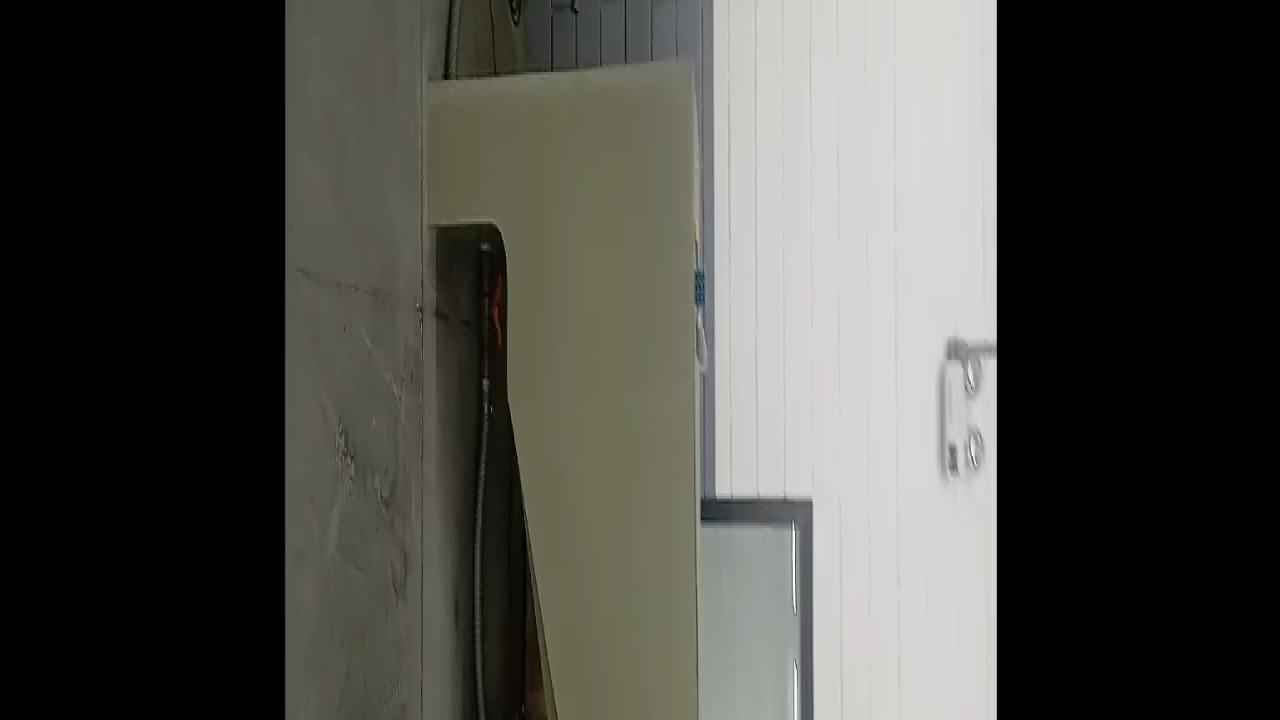Cube: (694, 266, 704, 307)
